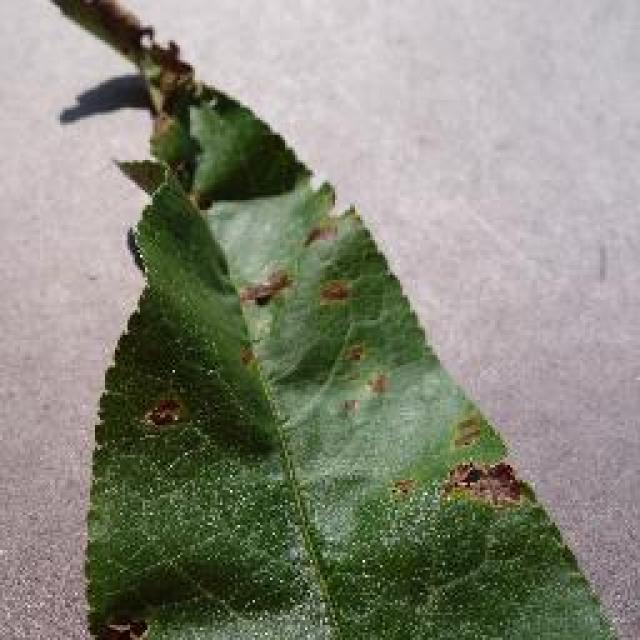Peach_Bacterial_Spot: (85, 23, 557, 512)
